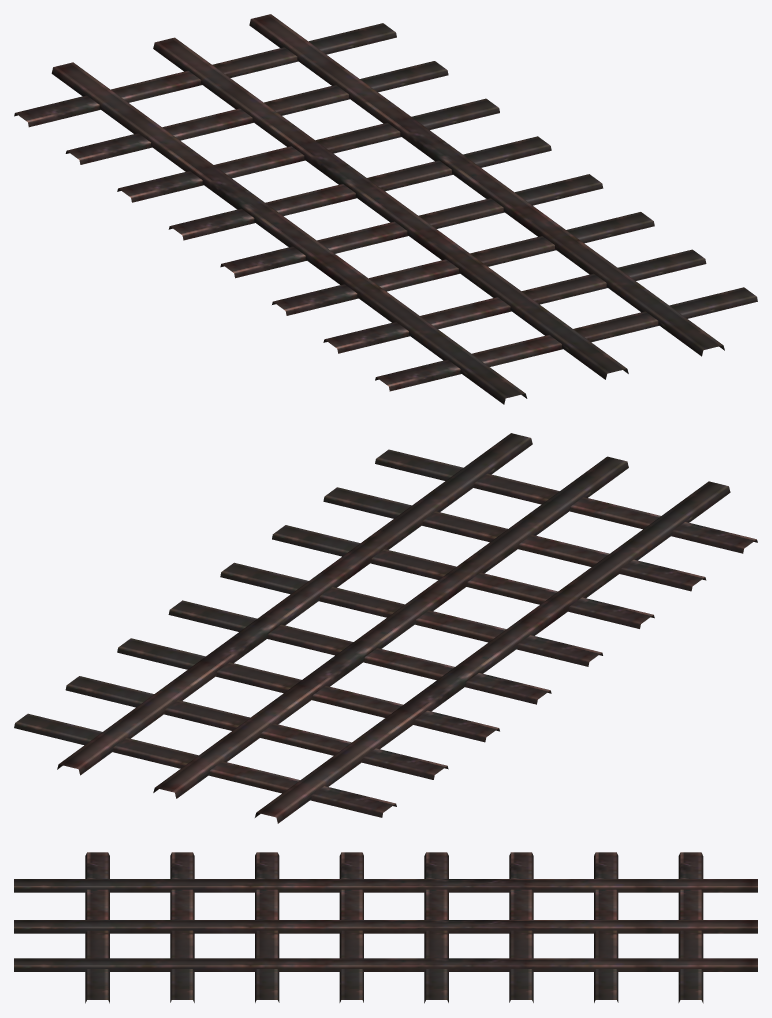
File: blsd_tiekuang.FBX
The picture shows the model from 3 angles, top to bottom: view 1: azimuth 30°, elevation 25°; view 2: azimuth 150°, elevation 25°; view 3: azimuth 270°, elevation 25°; orthographic projection. The views are drawn at different scales.
Visible parts, largest first — view 1: blsd_tiekuang; view 2: blsd_tiekuang; view 3: blsd_tiekuang.
Boxes of the visible parts, left/top/right/bottom form: blsd_tiekuang: left=14, top=14, right=757, bottom=404; blsd_tiekuang: left=14, top=433, right=757, bottom=823; blsd_tiekuang: left=14, top=852, right=757, bottom=1003.
Size of the model in its own units: 346 by 6.44 by 736.
